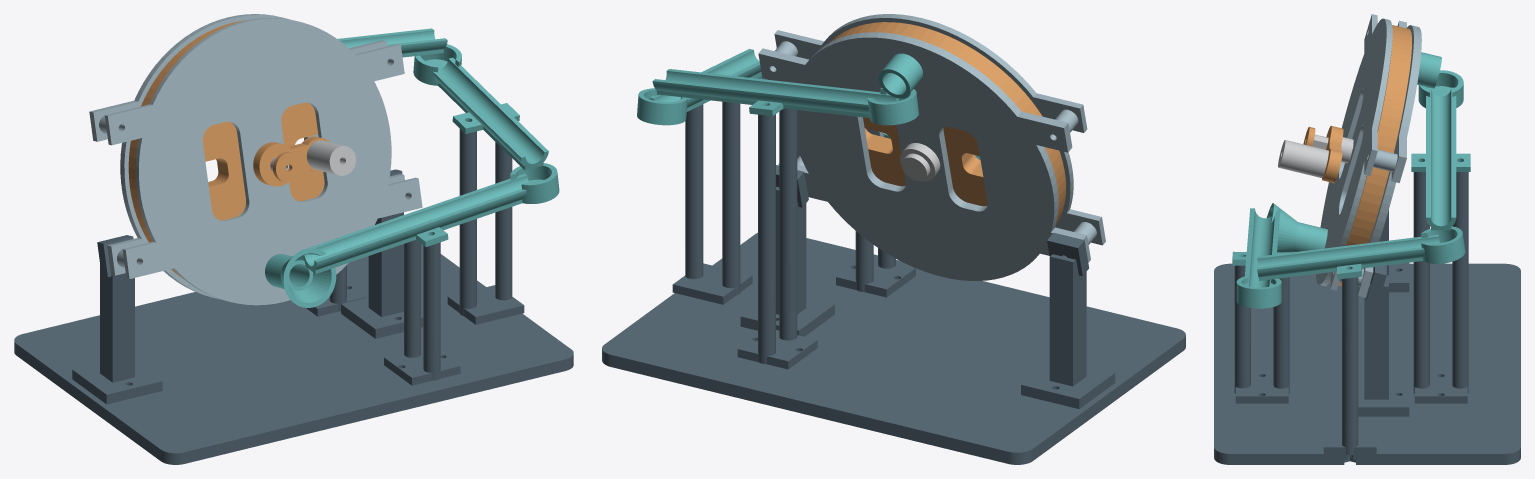
File: LoopLift.glb
3 views of the same model, side by side, from view 1: azimuth 30°, elevation 25°; view 2: azimuth 150°, elevation 25°; view 3: azimuth 270°, elevation 25° (orthographic). The views are drawn at different scales.
Parts seen in each view (by area): view 1: baseplate, front-guard, lower-return, eight-pocket-rotor, side-return-stand, lift-stand-left, side-return, lower-return-stand, rear-guard, lift-stand-right, inlet-funnel, upper-return (+4 smaller); view 2: baseplate, rear-guard, upper-return-stand, side-return-stand, lift-stand-left, eight-pocket-rotor, upper-return, front-guard, lift-stand-right, side-return, lower-return-stand, outlet-sleeve (+2 smaller); view 3: baseplate, front-guard, upper-return-stand, side-return, upper-return, lift-stand-right, lower-return-stand, eight-pocket-rotor, side-return-stand, rear-guard, lower-return, inlet-funnel (+4 smaller).
Part boxes in pixels (box(x1,y1,x2,y2)): baseplate: box(14, 244, 573, 464); front-guard: box(104, 17, 422, 305); lower-return: box(302, 163, 559, 273); eight-pocket-rotor: box(128, 20, 324, 278); side-return-stand: box(447, 129, 524, 324); lift-stand-left: box(72, 235, 162, 404); side-return: box(413, 44, 548, 170); lower-return-stand: box(384, 240, 460, 385); rear-guard: box(89, 14, 408, 299); lift-stand-right: box(341, 169, 423, 338); inlet-funnel: box(265, 248, 336, 307); upper-return: box(337, 28, 447, 57); baseplate: box(602, 233, 1185, 464); rear-guard: box(758, 32, 1096, 280); upper-return-stand: box(737, 108, 817, 369); side-return-stand: box(672, 101, 752, 304); lift-stand-left: box(1021, 232, 1115, 408); eight-pocket-rotor: box(831, 22, 1065, 226); upper-return: box(652, 69, 918, 125); front-guard: box(774, 14, 1105, 245); lift-stand-right: box(740, 165, 834, 336); side-return: box(637, 49, 761, 125); lower-return-stand: box(836, 231, 915, 297); outlet-sleeve: box(878, 53, 922, 98); baseplate: box(1214, 263, 1520, 464); front-guard: box(1316, 14, 1392, 290); upper-return-stand: box(1413, 172, 1468, 403); side-return: box(1257, 226, 1465, 280); upper-return: box(1411, 70, 1470, 230); lift-stand-right: box(1358, 265, 1409, 416); lower-return-stand: box(1234, 265, 1289, 403); eight-pocket-rotor: box(1329, 25, 1411, 285); side-return-stand: box(1323, 277, 1376, 455); rear-guard: box(1339, 20, 1421, 297); lower-return: box(1232, 208, 1291, 308); inlet-funnel: box(1266, 203, 1327, 252).
Size of the model in its own units: 0.2225 by 0.1732 by 0.15.
